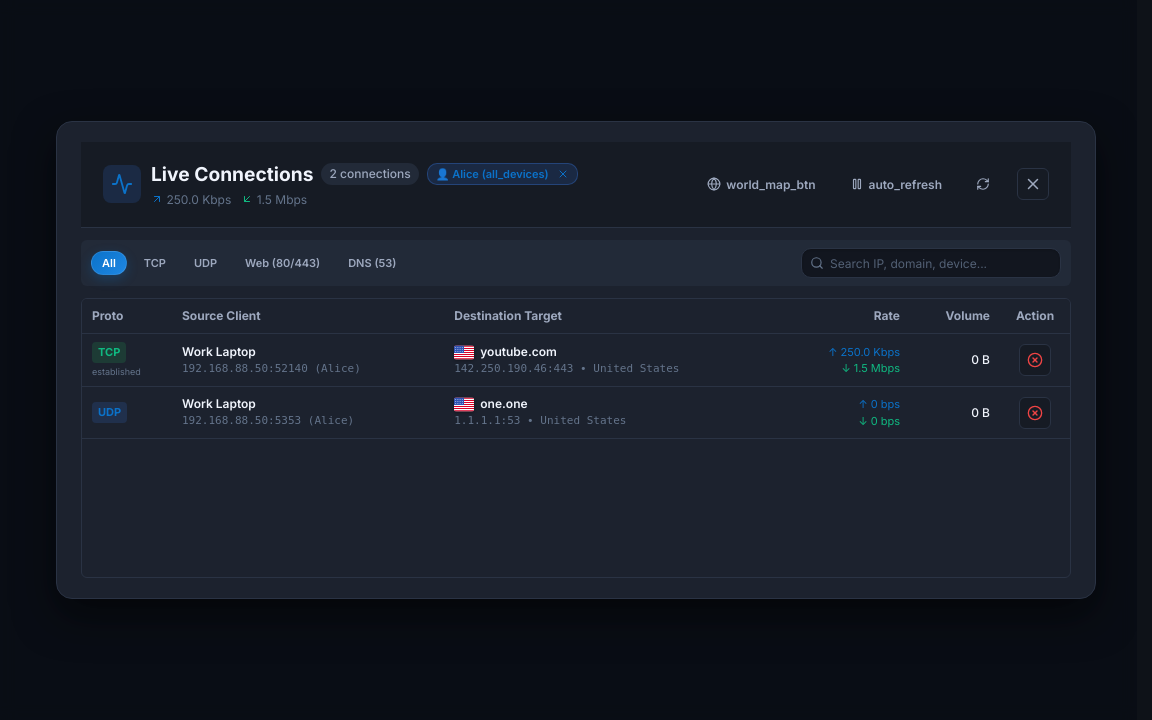
Test case: LiveConnectionsModal truncation and error handling › filters by user target, displays contextual user badge, and clears filter on click
Check: the element with test id "live-connections-target-badge" shows "Alice", box [452,167,479,181]
Click the button named "show_all_connections": x=563, y=174 [557,168,569,180]
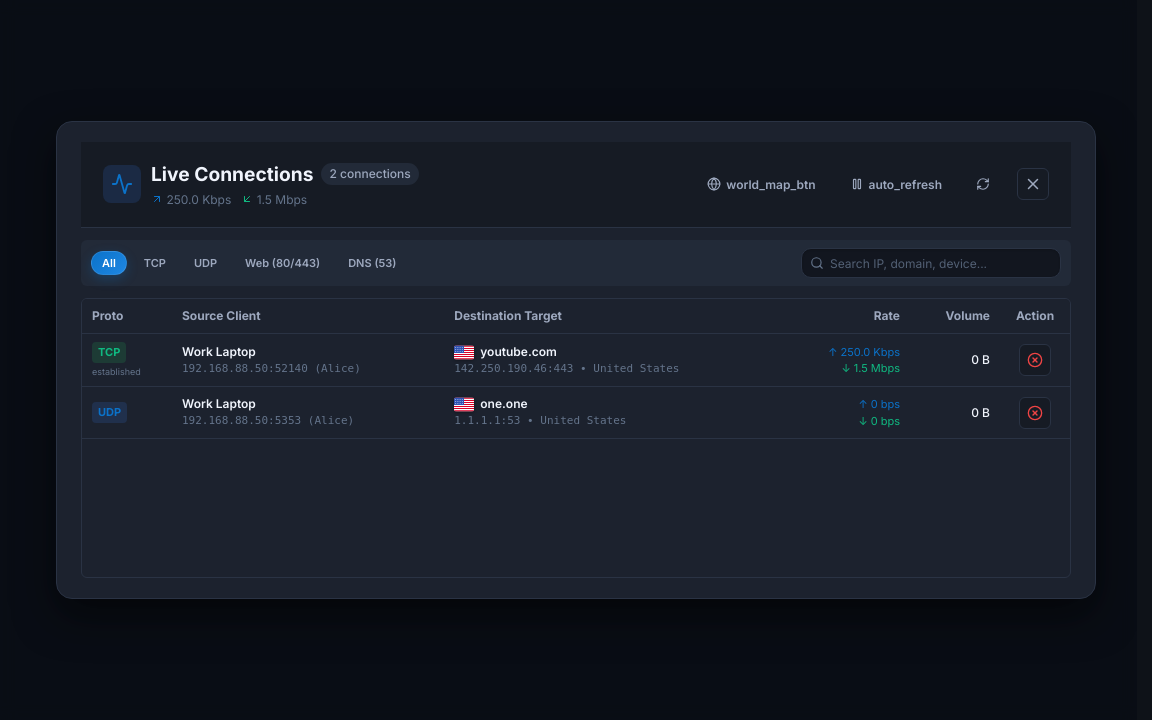
Check: the element with test id "live-connections-target-badge" is gone
